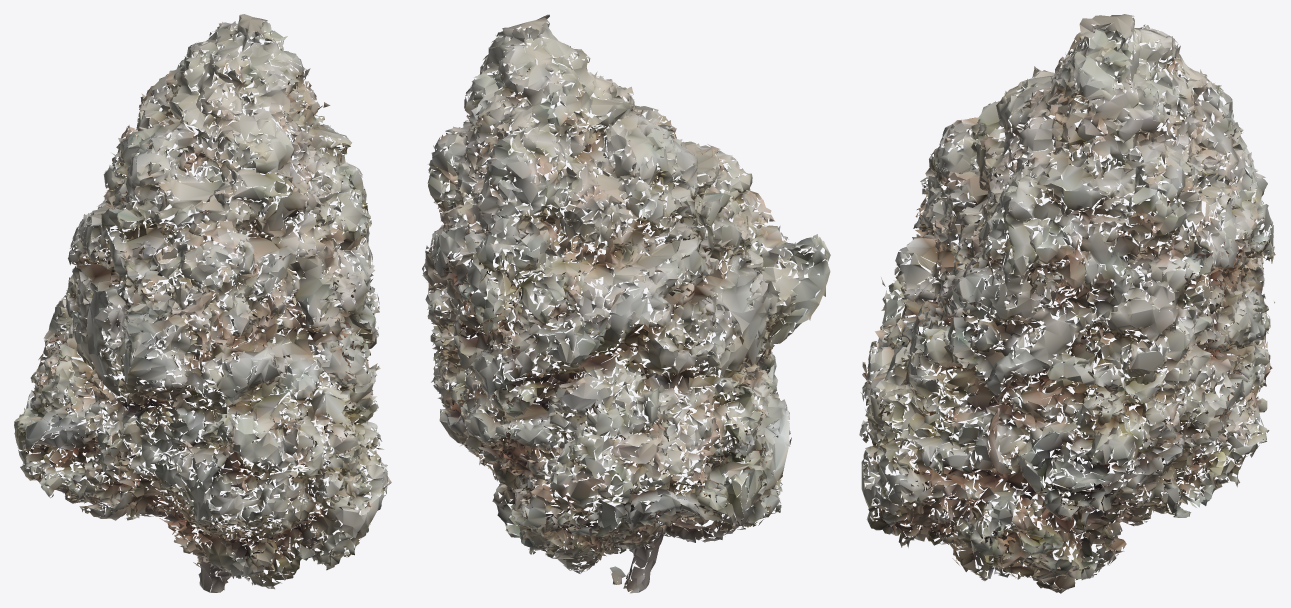
The model's file is cogollo_chunks_opt.glb.
3 renders of one model, left to right at view 1: azimuth 30°, elevation 25°; view 2: azimuth 150°, elevation 25°; view 3: azimuth 270°, elevation 25°, orthographic. The views are drawn at different scales.
Parts seen in each view (by area): view 1: COGOLLO_WEB; view 2: COGOLLO_WEB; view 3: COGOLLO_WEB.
Boxes of the visible parts, left/top/right/bottom form: COGOLLO_WEB: left=14, top=14, right=391, bottom=592; COGOLLO_WEB: left=422, top=14, right=830, bottom=593; COGOLLO_WEB: left=859, top=14, right=1275, bottom=593.
Bounding box in the file's own units: 0.6233 × 1 × 0.6307.
